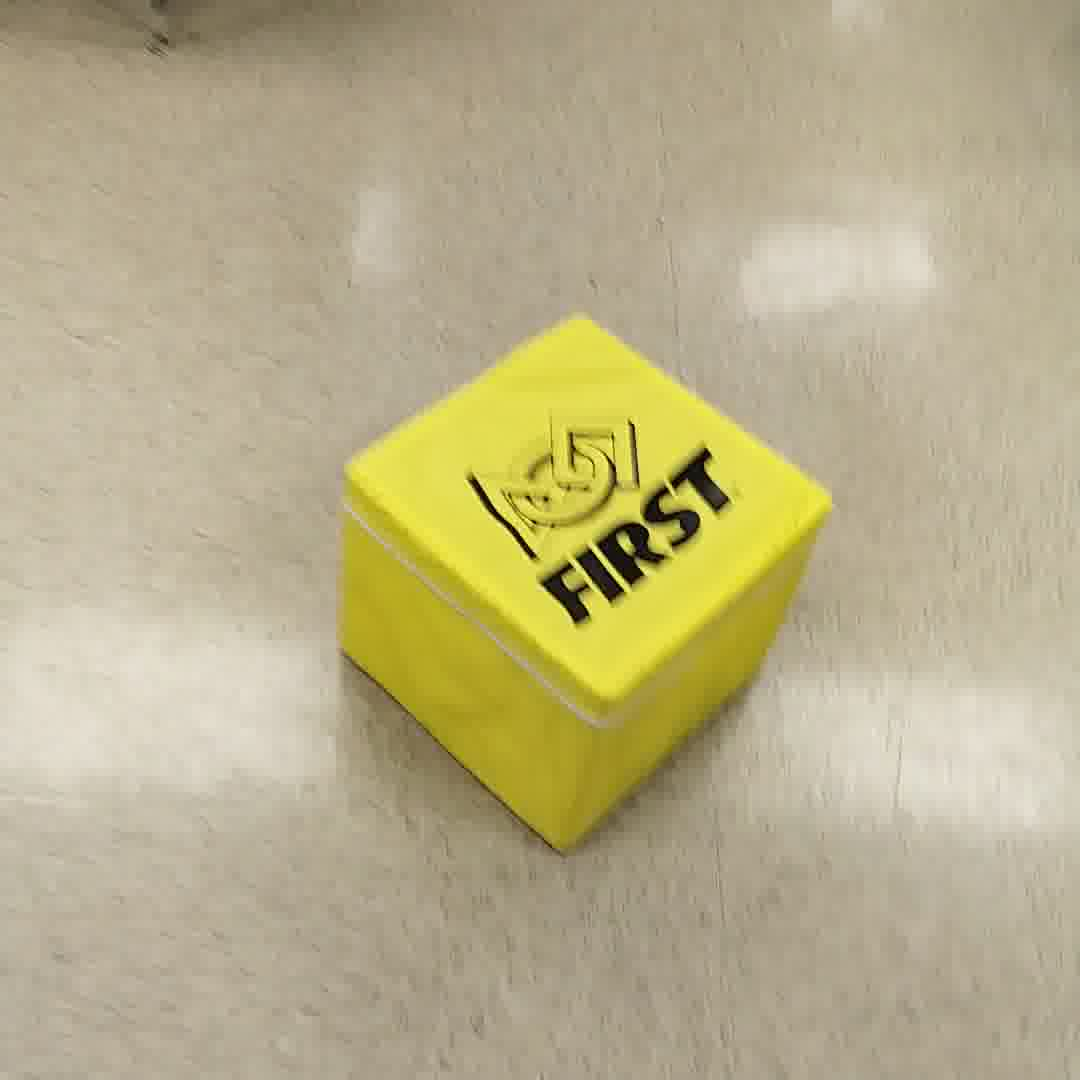box: (343, 311, 841, 847)
